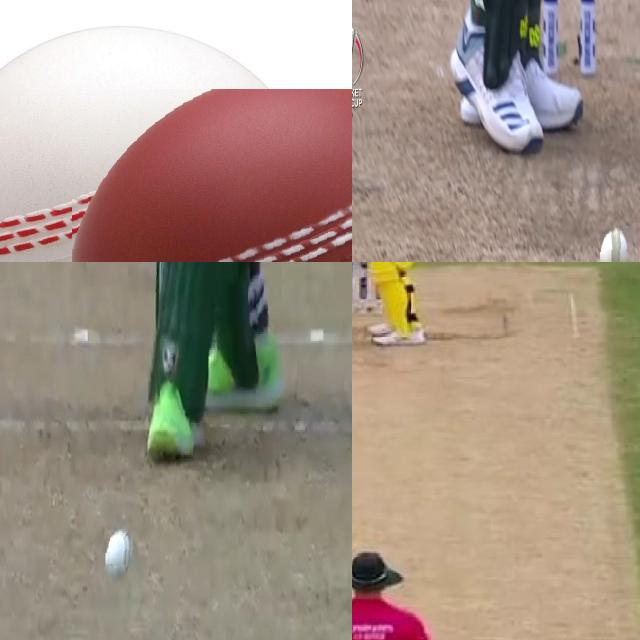Cricket ball: (71, 89, 352, 262), (105, 527, 138, 587), (600, 226, 631, 262)
